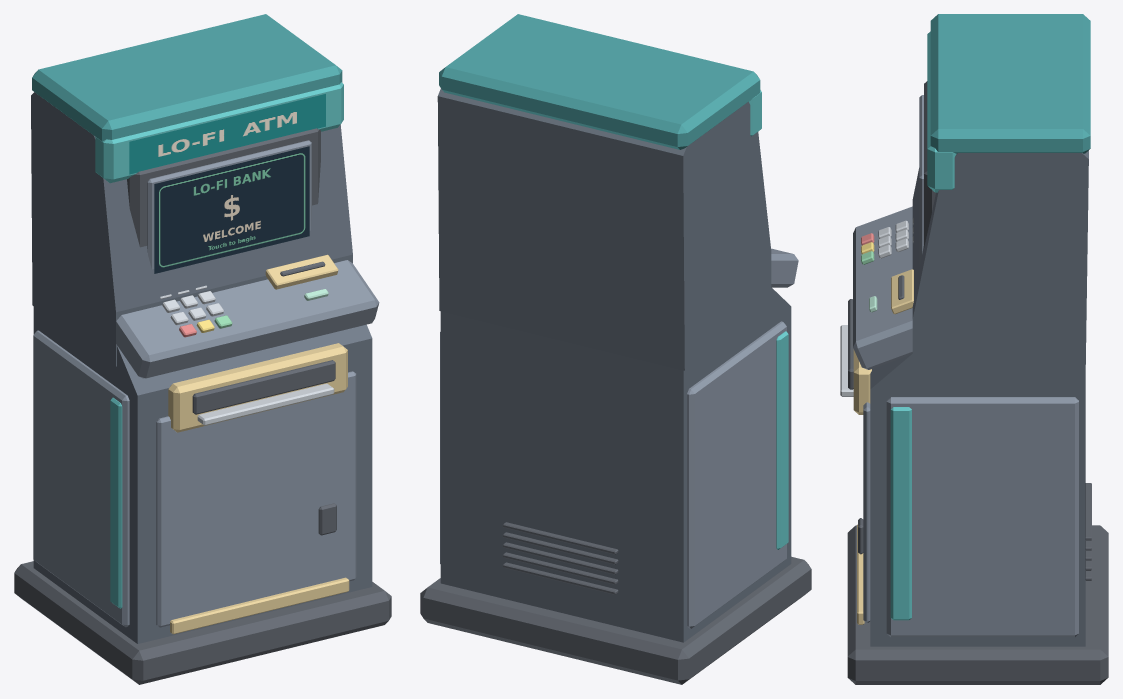
Rendered from atm.glb.
3 views of the same model, side by side, from view 1: azimuth 30°, elevation 25°; view 2: azimuth 150°, elevation 25°; view 3: azimuth 270°, elevation 25° (orthographic). The views are drawn at different scales.
Parts seen in each view (by area): view 1: Cabinet_slate, Console_charcoal, Console_darkteal, Cabinet_charcoal, Cabinet_black, Controls_slate, Screen_Display, ATM_Brand, Cash_Dispenser_gold, Console_black, Console_teal, Cash_Dispenser_black (+6 smaller); view 2: Console_charcoal, Cabinet_charcoal, Console_darkteal, Cabinet_slate, Cabinet_black, Cabinet_teal, Controls_slate; view 3: Cabinet_slate, Console_charcoal, Console_darkteal, Cabinet_black, Cabinet_charcoal, Controls_slate, Cabinet_teal, Console_teal, Cash_Dispenser_gold, Keypad_steel, Console_black, Console_slate (+4 smaller).
Part boxes in pixels (x1=…): Cabinet_slate: x1=33, y1=330, x2=356, y2=627; Console_charcoal: x1=31, y1=92, x2=352, y2=366; Console_darkteal: x1=32, y1=14, x2=342, y2=141; Cabinet_charcoal: x1=33, y1=306, x2=372, y2=643; Cabinet_black: x1=14, y1=503, x2=391, y2=684; Controls_slate: x1=116, y1=260, x2=379, y2=378; Screen_Display: x1=154, y1=146, x2=309, y2=273; ATM_Brand: x1=129, y1=94, x2=325, y2=174; Cash_Dispenser_gold: x1=168, y1=343, x2=347, y2=432; Console_black: x1=127, y1=128, x2=320, y2=247; Console_teal: x1=95, y1=82, x2=343, y2=183; Cash_Dispenser_black: x1=192, y1=360, x2=335, y2=414; Console_charcoal: x1=437, y1=88, x2=771, y2=370; Cabinet_charcoal: x1=440, y1=287, x2=791, y2=642; Console_darkteal: x1=439, y1=14, x2=760, y2=149; Cabinet_slate: x1=440, y1=321, x2=786, y2=628; Cabinet_black: x1=420, y1=522, x2=811, y2=684; Cabinet_teal: x1=776, y1=331, x2=788, y2=549; Controls_slate: x1=771, y1=248, x2=798, y2=287; Cabinet_slate: x1=863, y1=397, x2=1078, y2=637; Console_charcoal: x1=912, y1=150, x2=1088, y2=375; Console_darkteal: x1=930, y1=14, x2=1090, y2=153; Cabinet_black: x1=847, y1=483, x2=1108, y2=684; Cabinet_charcoal: x1=870, y1=353, x2=1085, y2=646; Controls_slate: x1=853, y1=206, x2=912, y2=369; Cabinet_teal: x1=890, y1=407, x2=911, y2=620; Console_teal: x1=927, y1=31, x2=956, y2=192; Cash_Dispenser_gold: x1=853, y1=349, x2=871, y2=414; Keypad_steel: x1=878, y1=218, x2=913, y2=258; Console_black: x1=924, y1=81, x2=935, y2=247; Console_slate: x1=919, y1=95, x2=923, y2=265.
Bounding box in the file's own units: 0.95 × 1.87 × 0.8215.
Materials: 13 (2 with a texture image).
